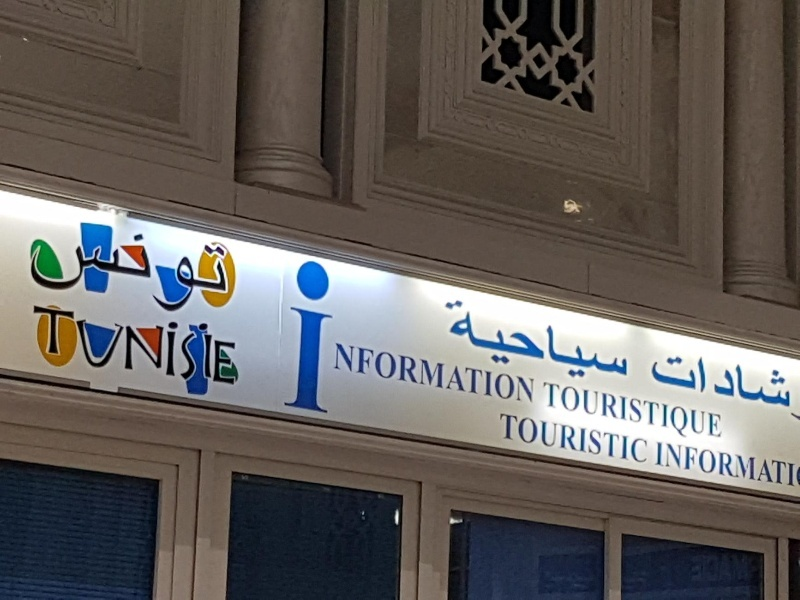text: (305, 255, 320, 414), (321, 255, 335, 414), (292, 255, 304, 414), (33, 214, 48, 324), (49, 214, 64, 324), (65, 214, 80, 324), (81, 214, 96, 324), (97, 214, 112, 324), (113, 214, 128, 324), (129, 214, 144, 324), (145, 214, 160, 324), (161, 214, 176, 324), (177, 214, 192, 324), (193, 214, 208, 324), (209, 214, 224, 324), (225, 301, 241, 395), (449, 295, 464, 392), (465, 295, 480, 392), (481, 295, 496, 392), (497, 295, 512, 392), (513, 295, 528, 392), (529, 295, 544, 392), (545, 295, 560, 392), (561, 295, 576, 392), (577, 295, 592, 392), (593, 295, 608, 392), (609, 295, 624, 392), (33, 301, 48, 395), (49, 301, 64, 395), (65, 301, 80, 395), (81, 301, 96, 395), (97, 301, 112, 395), (113, 301, 128, 395), (129, 301, 144, 395), (145, 301, 160, 395), (161, 301, 176, 395), (177, 301, 192, 395), (193, 301, 208, 395), (209, 301, 224, 395), (545, 379, 560, 446), (561, 379, 576, 446), (577, 379, 592, 446), (593, 379, 608, 446), (609, 379, 624, 446), (625, 379, 640, 446), (641, 379, 656, 446), (657, 379, 672, 446), (673, 379, 688, 446), (689, 379, 704, 446), (705, 379, 720, 446), (657, 348, 672, 414), (673, 348, 688, 414), (689, 348, 704, 414), (705, 348, 720, 414), (721, 348, 736, 414), (737, 348, 752, 414), (753, 348, 768, 414), (769, 348, 784, 414), (337, 342, 352, 406), (353, 342, 368, 406), (369, 342, 384, 406), (385, 342, 400, 406), (401, 342, 416, 406), (417, 342, 432, 406), (433, 342, 448, 406), (449, 342, 464, 406), (465, 342, 480, 406), (481, 342, 496, 406), (497, 342, 512, 406), (513, 342, 528, 406), (225, 214, 233, 324), (497, 411, 512, 465), (513, 411, 528, 465), (529, 411, 544, 465), (545, 411, 560, 465), (561, 411, 576, 465), (577, 411, 592, 465), (593, 411, 608, 465), (609, 411, 624, 465), (625, 411, 640, 465), (440, 295, 448, 392), (657, 441, 672, 489), (673, 441, 688, 489), (689, 441, 704, 489), (705, 441, 720, 489), (721, 441, 736, 489), (737, 441, 752, 489), (753, 441, 768, 489), (769, 441, 784, 489), (785, 441, 800, 489), (785, 348, 795, 414), (529, 342, 537, 406), (641, 411, 649, 465), (625, 295, 629, 392), (28, 301, 32, 395), (539, 379, 544, 446), (721, 379, 726, 446), (652, 348, 656, 414), (334, 342, 336, 406), (31, 214, 32, 324), (655, 441, 656, 489)
